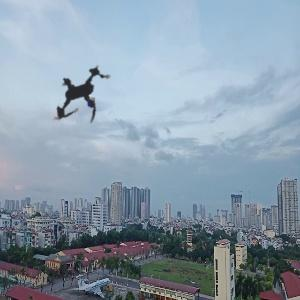drone: (18, 31, 144, 157)
